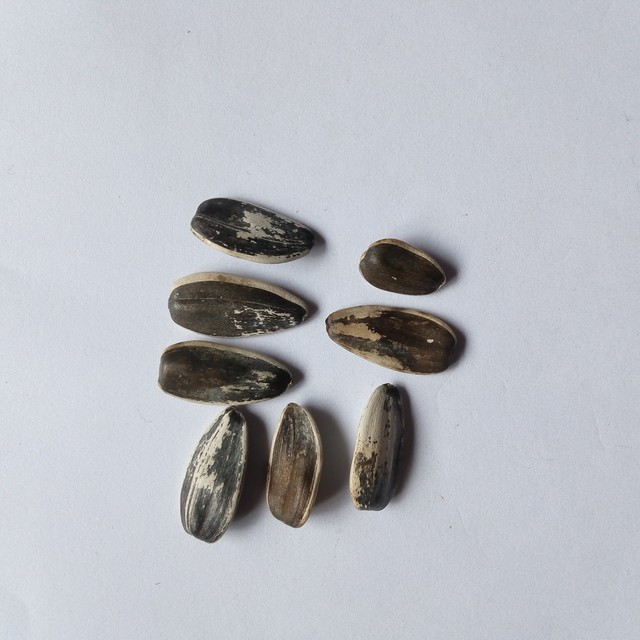girasol: (325, 299, 475, 377), (173, 409, 256, 544), (186, 191, 327, 267), (161, 269, 315, 338), (267, 400, 338, 546), (155, 338, 303, 406), (347, 381, 418, 518), (353, 234, 453, 301)
